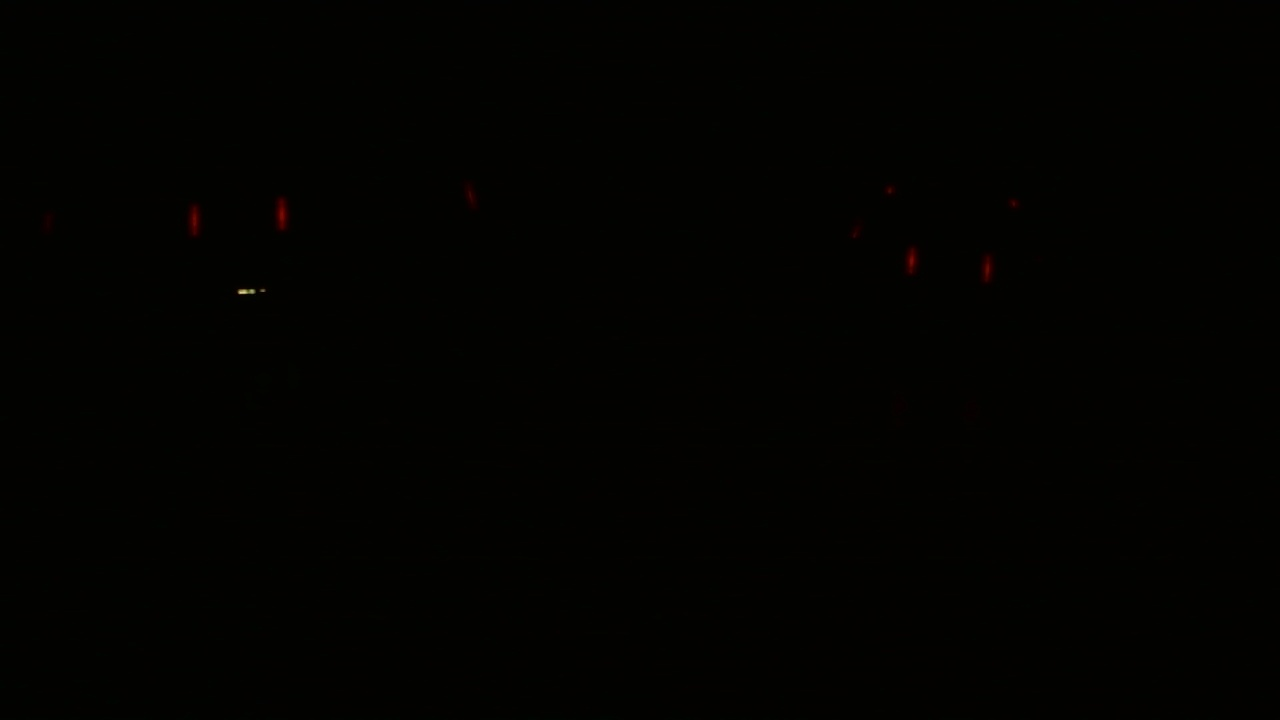pair1: (175, 185, 301, 246)
pair2: (892, 246, 1005, 305)
